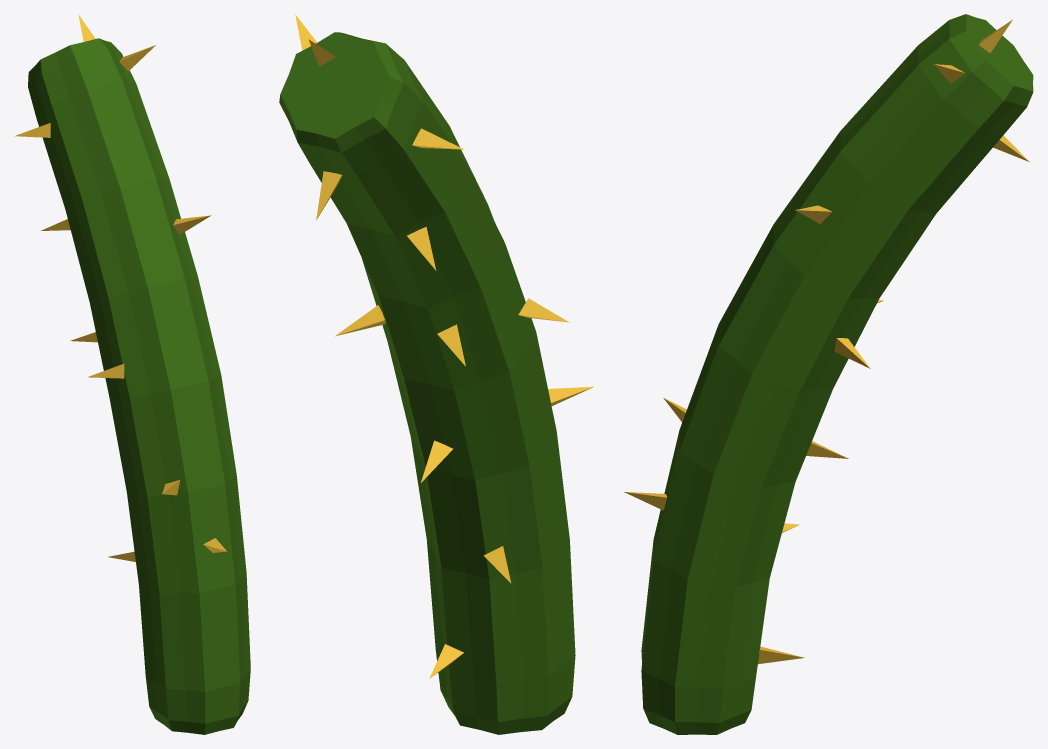
Rendered from Cactus_06_B.fbx.
The picture shows the model from 3 angles, left to right: view 1: azimuth 30°, elevation 25°; view 2: azimuth 150°, elevation 25°; view 3: azimuth 270°, elevation 25°; orthographic projection. The views are drawn at different scales.
Visible parts, largest first — view 1: Cactus_06_B; view 2: Cactus_06_B; view 3: Cactus_06_B.
Boxes of the visible parts, x1=… form: Cactus_06_B: x1=14, y1=14, x2=250, y2=734; Cactus_06_B: x1=279, y1=14, x2=593, y2=734; Cactus_06_B: x1=624, y1=14, x2=1033, y2=734.
Bounding box in the file's own units: 58.68 × 243 × 129.
